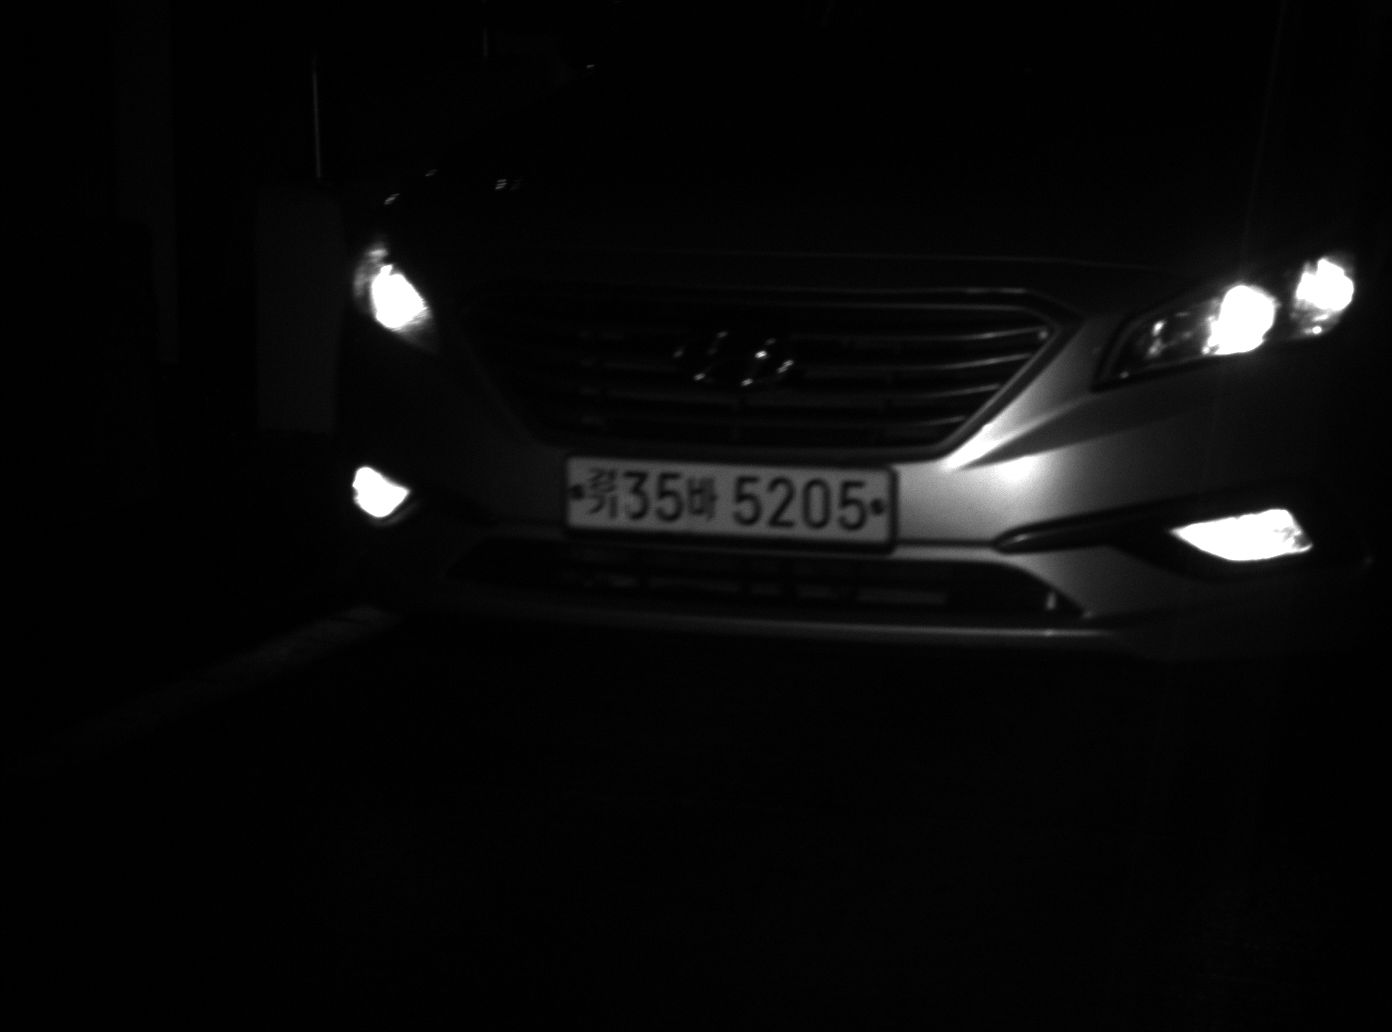car: (318, 1, 1392, 716)
plate: (560, 455, 896, 549)
